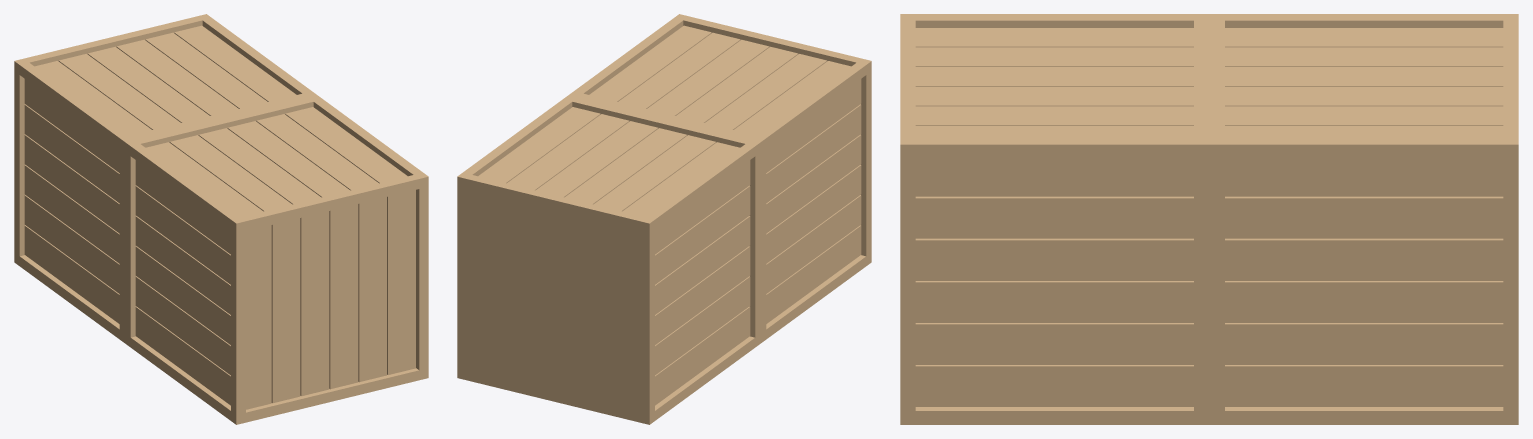
File: doublebox.obj
3 renders of one model, left to right at view 1: azimuth 30°, elevation 25°; view 2: azimuth 150°, elevation 25°; view 3: azimuth 270°, elevation 25°, orthographic. The views are drawn at different scales.
Parts seen in each view (by area): view 1: obj_0; view 2: obj_0; view 3: obj_0.
Part boxes in pixels (<box>): obj_0: <box>14,14,428,424</box>; obj_0: <box>457,14,871,424</box>; obj_0: <box>900,14,1518,424</box>.
Bounding box in the file's own units: 15 × 15 × 30.
